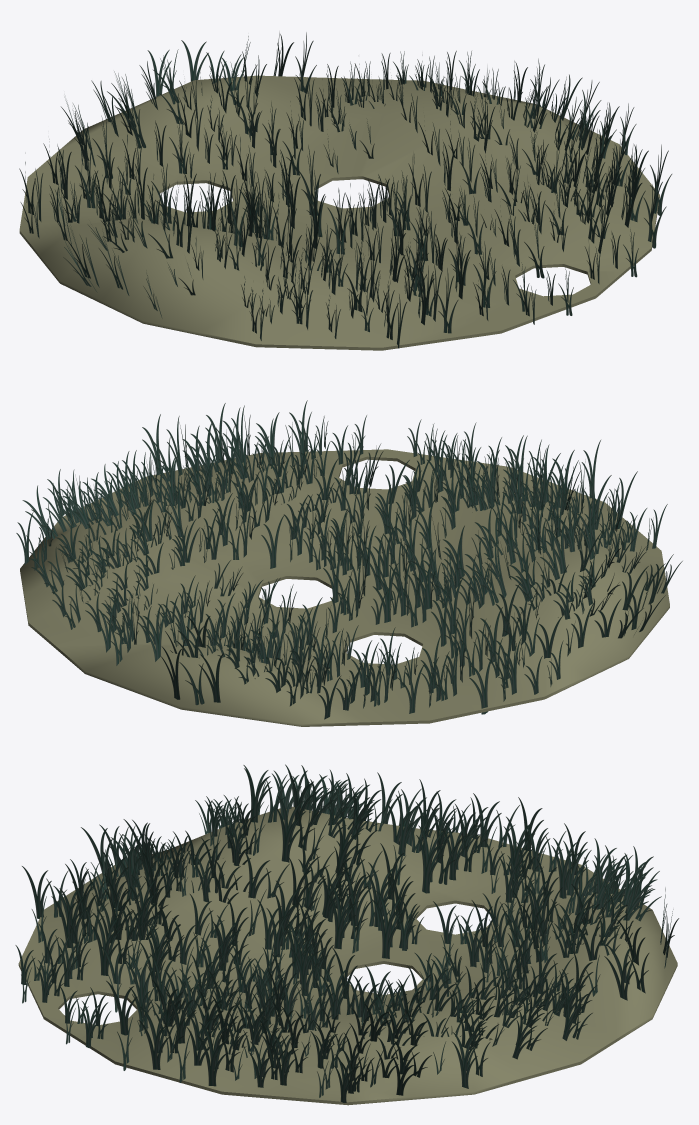
The model's file is rabbitHoleRot.glb.
3 views of the same model, one above another, from view 1: azimuth 30°, elevation 25°; view 2: azimuth 150°, elevation 25°; view 3: azimuth 270°, elevation 25° (orthographic).
Visible parts, largest first — view 1: rabbitHole; view 2: rabbitHole; view 3: rabbitHole.
Boxes of the visible parts, x1,y1,x2,y2 form: rabbitHole: [19, 32, 671, 350]; rabbitHole: [16, 400, 682, 726]; rabbitHole: [15, 764, 678, 1105].
Size of the model in its own units: 19.3 by 3.81 by 18.78.
2 materials, 1 textured.
